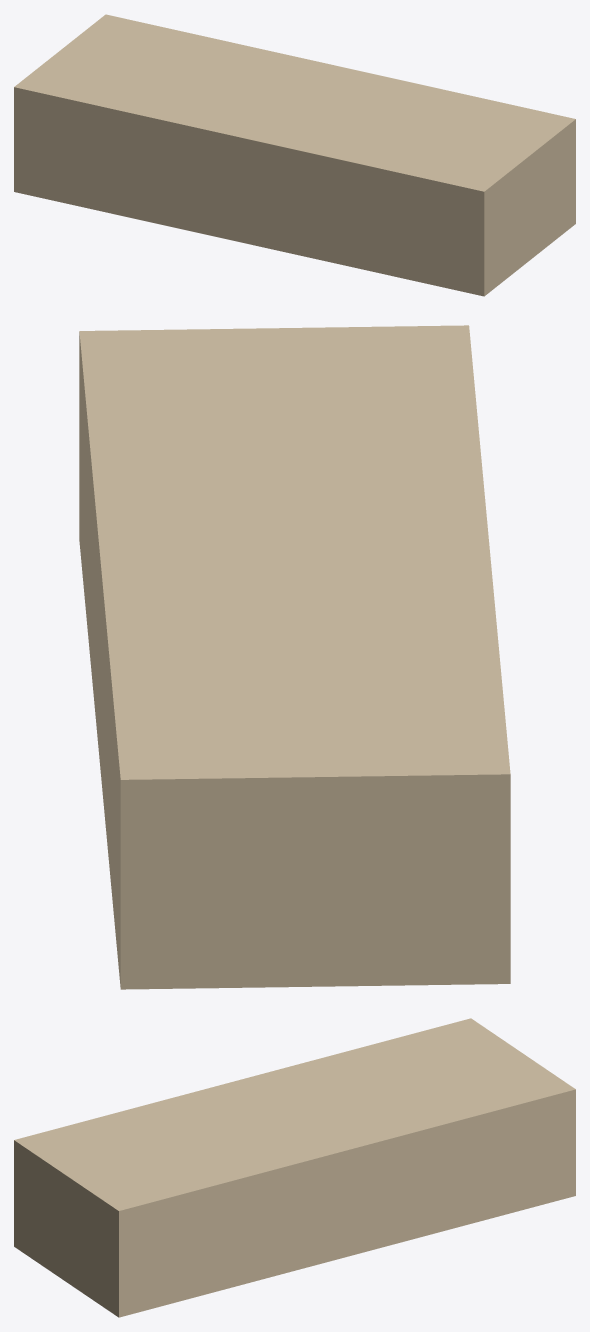
Rendered from -14_-5-estimated-coarse.glb.
3 views of the same model, one above another, from view 1: azimuth 30°, elevation 25°; view 2: azimuth 150°, elevation 25°; view 3: azimuth 270°, elevation 25° (orthographic). The views are drawn at different scales.
Size of the model in its own units: 46.58 by 12 by 57.36.
